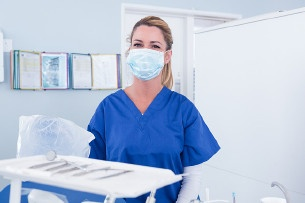Mask: (130, 37, 170, 77)
